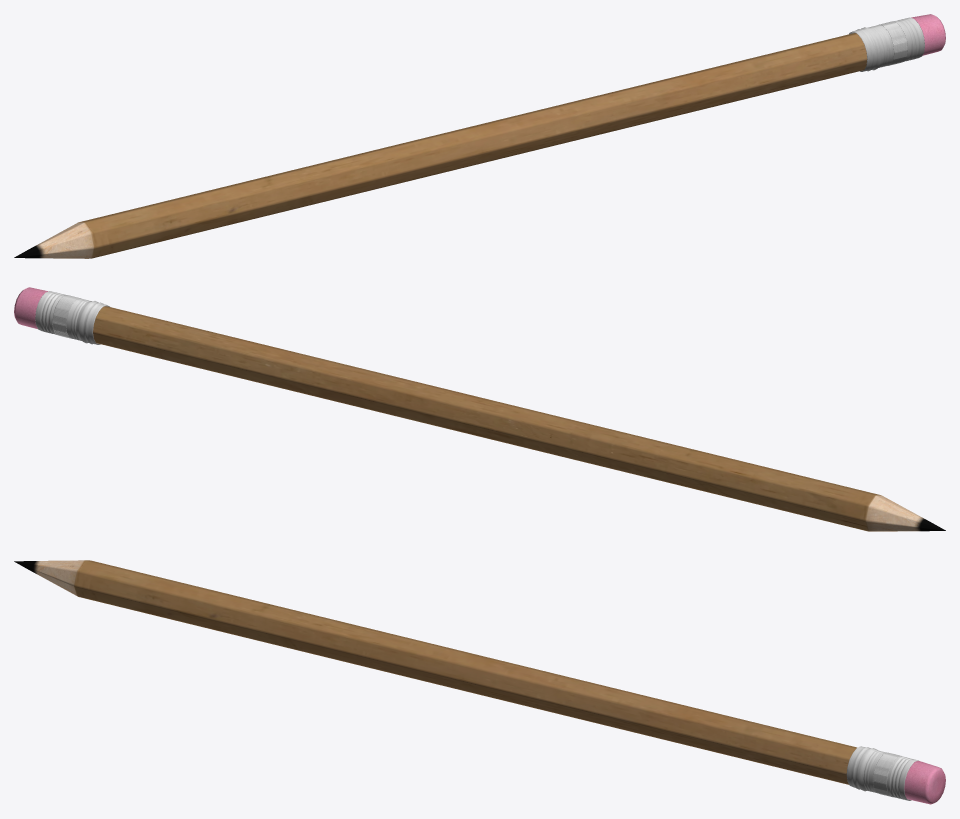
File: pencil.glb
3 views of the same model, one above another, from view 1: azimuth 30°, elevation 25°; view 2: azimuth 150°, elevation 25°; view 3: azimuth 330°, elevation 25° (orthographic).
Visible parts, largest first — view 1: polySurface13; view 2: polySurface13; view 3: polySurface13.
Part boxes in pixels (x1,y1,x2,y2): polySurface13: (14, 14, 945, 258); polySurface13: (14, 287, 945, 531); polySurface13: (14, 560, 945, 804).
Size of the model in its own units: 0.1796 by 0.00739 by 0.00753.
3 materials, 3 textured.
